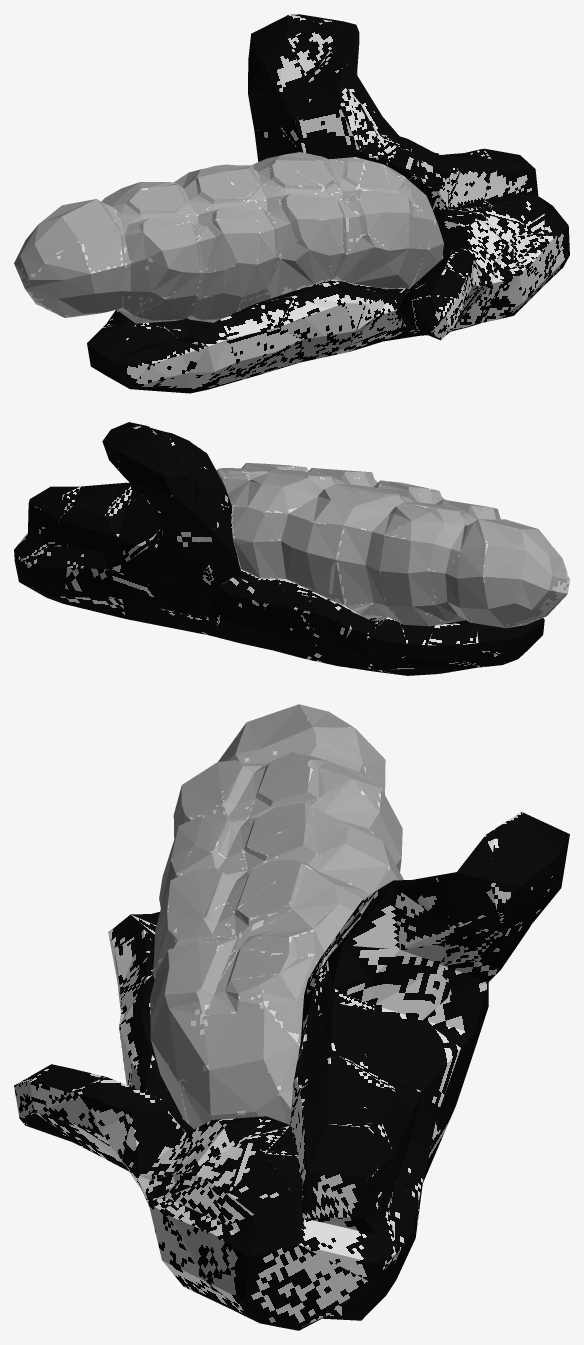
3 renders of one model, top to bottom at view 1: azimuth 30°, elevation 25°; view 2: azimuth 150°, elevation 25°; view 3: azimuth 270°, elevation 25°, orthographic. The views are drawn at different scales.
Parts seen in each view (by area): view 1: OBJ0b4; view 2: OBJ0b4; view 3: OBJ0b4.
Part boxes in pixels (<box>): OBJ0b4: <box>14,14,569,393</box>; OBJ0b4: <box>14,422,569,675</box>; OBJ0b4: <box>14,704,569,1330</box>.
Bounding box in the file's own units: 0.3141 × 0.1492 × 0.1831.
Materials: 1 (1 with a texture image).
